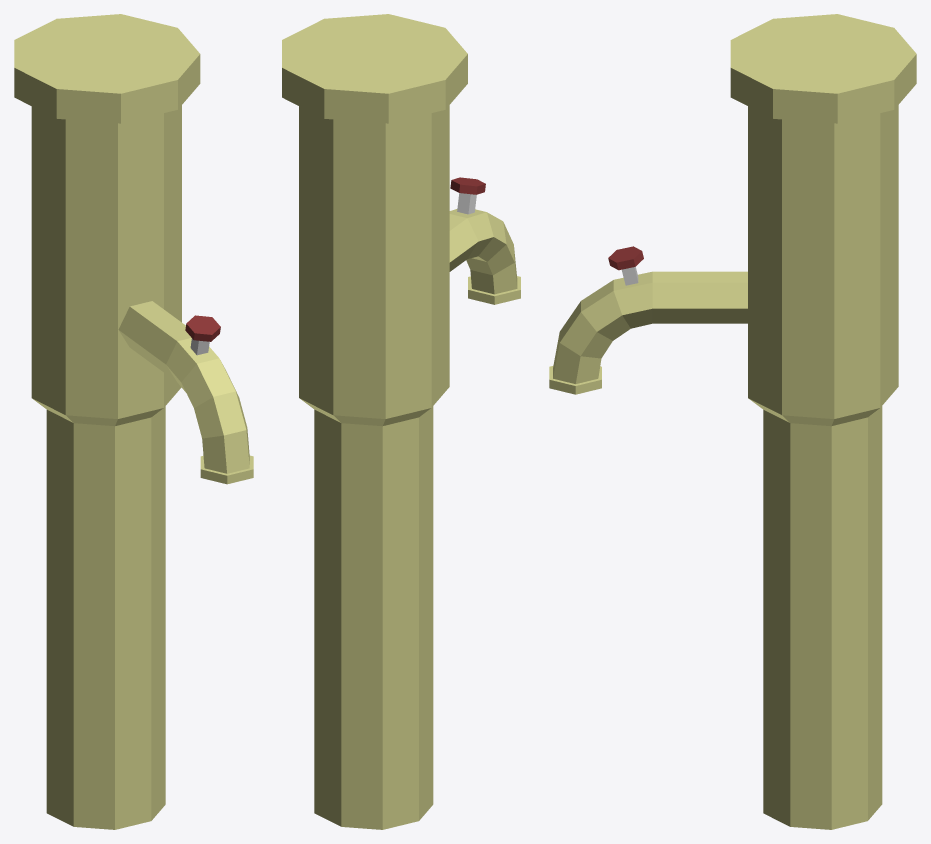
File: pump.fbx
The picture shows the model from 3 angles, left to right: view 1: azimuth 30°, elevation 25°; view 2: azimuth 150°, elevation 25°; view 3: azimuth 270°, elevation 25°; orthographic projection.
Visible parts, largest first — view 1: PumpTower, Spout, Knob; view 2: PumpTower, Spout, Knob; view 3: PumpTower, Spout.
Boxes of the visible parts, x1,y1,x2,y2 form: PumpTower: (14,14,200,829); Spout: (118,301,253,484); Knob: (185,315,220,341); PumpTower: (282,14,467,829); Spout: (449,209,520,304); Knob: (450,177,485,194); PumpTower: (730,14,916,829); Spout: (549,271,747,394).
Bounding box in the file's own units: 148 × 649 × 288.
